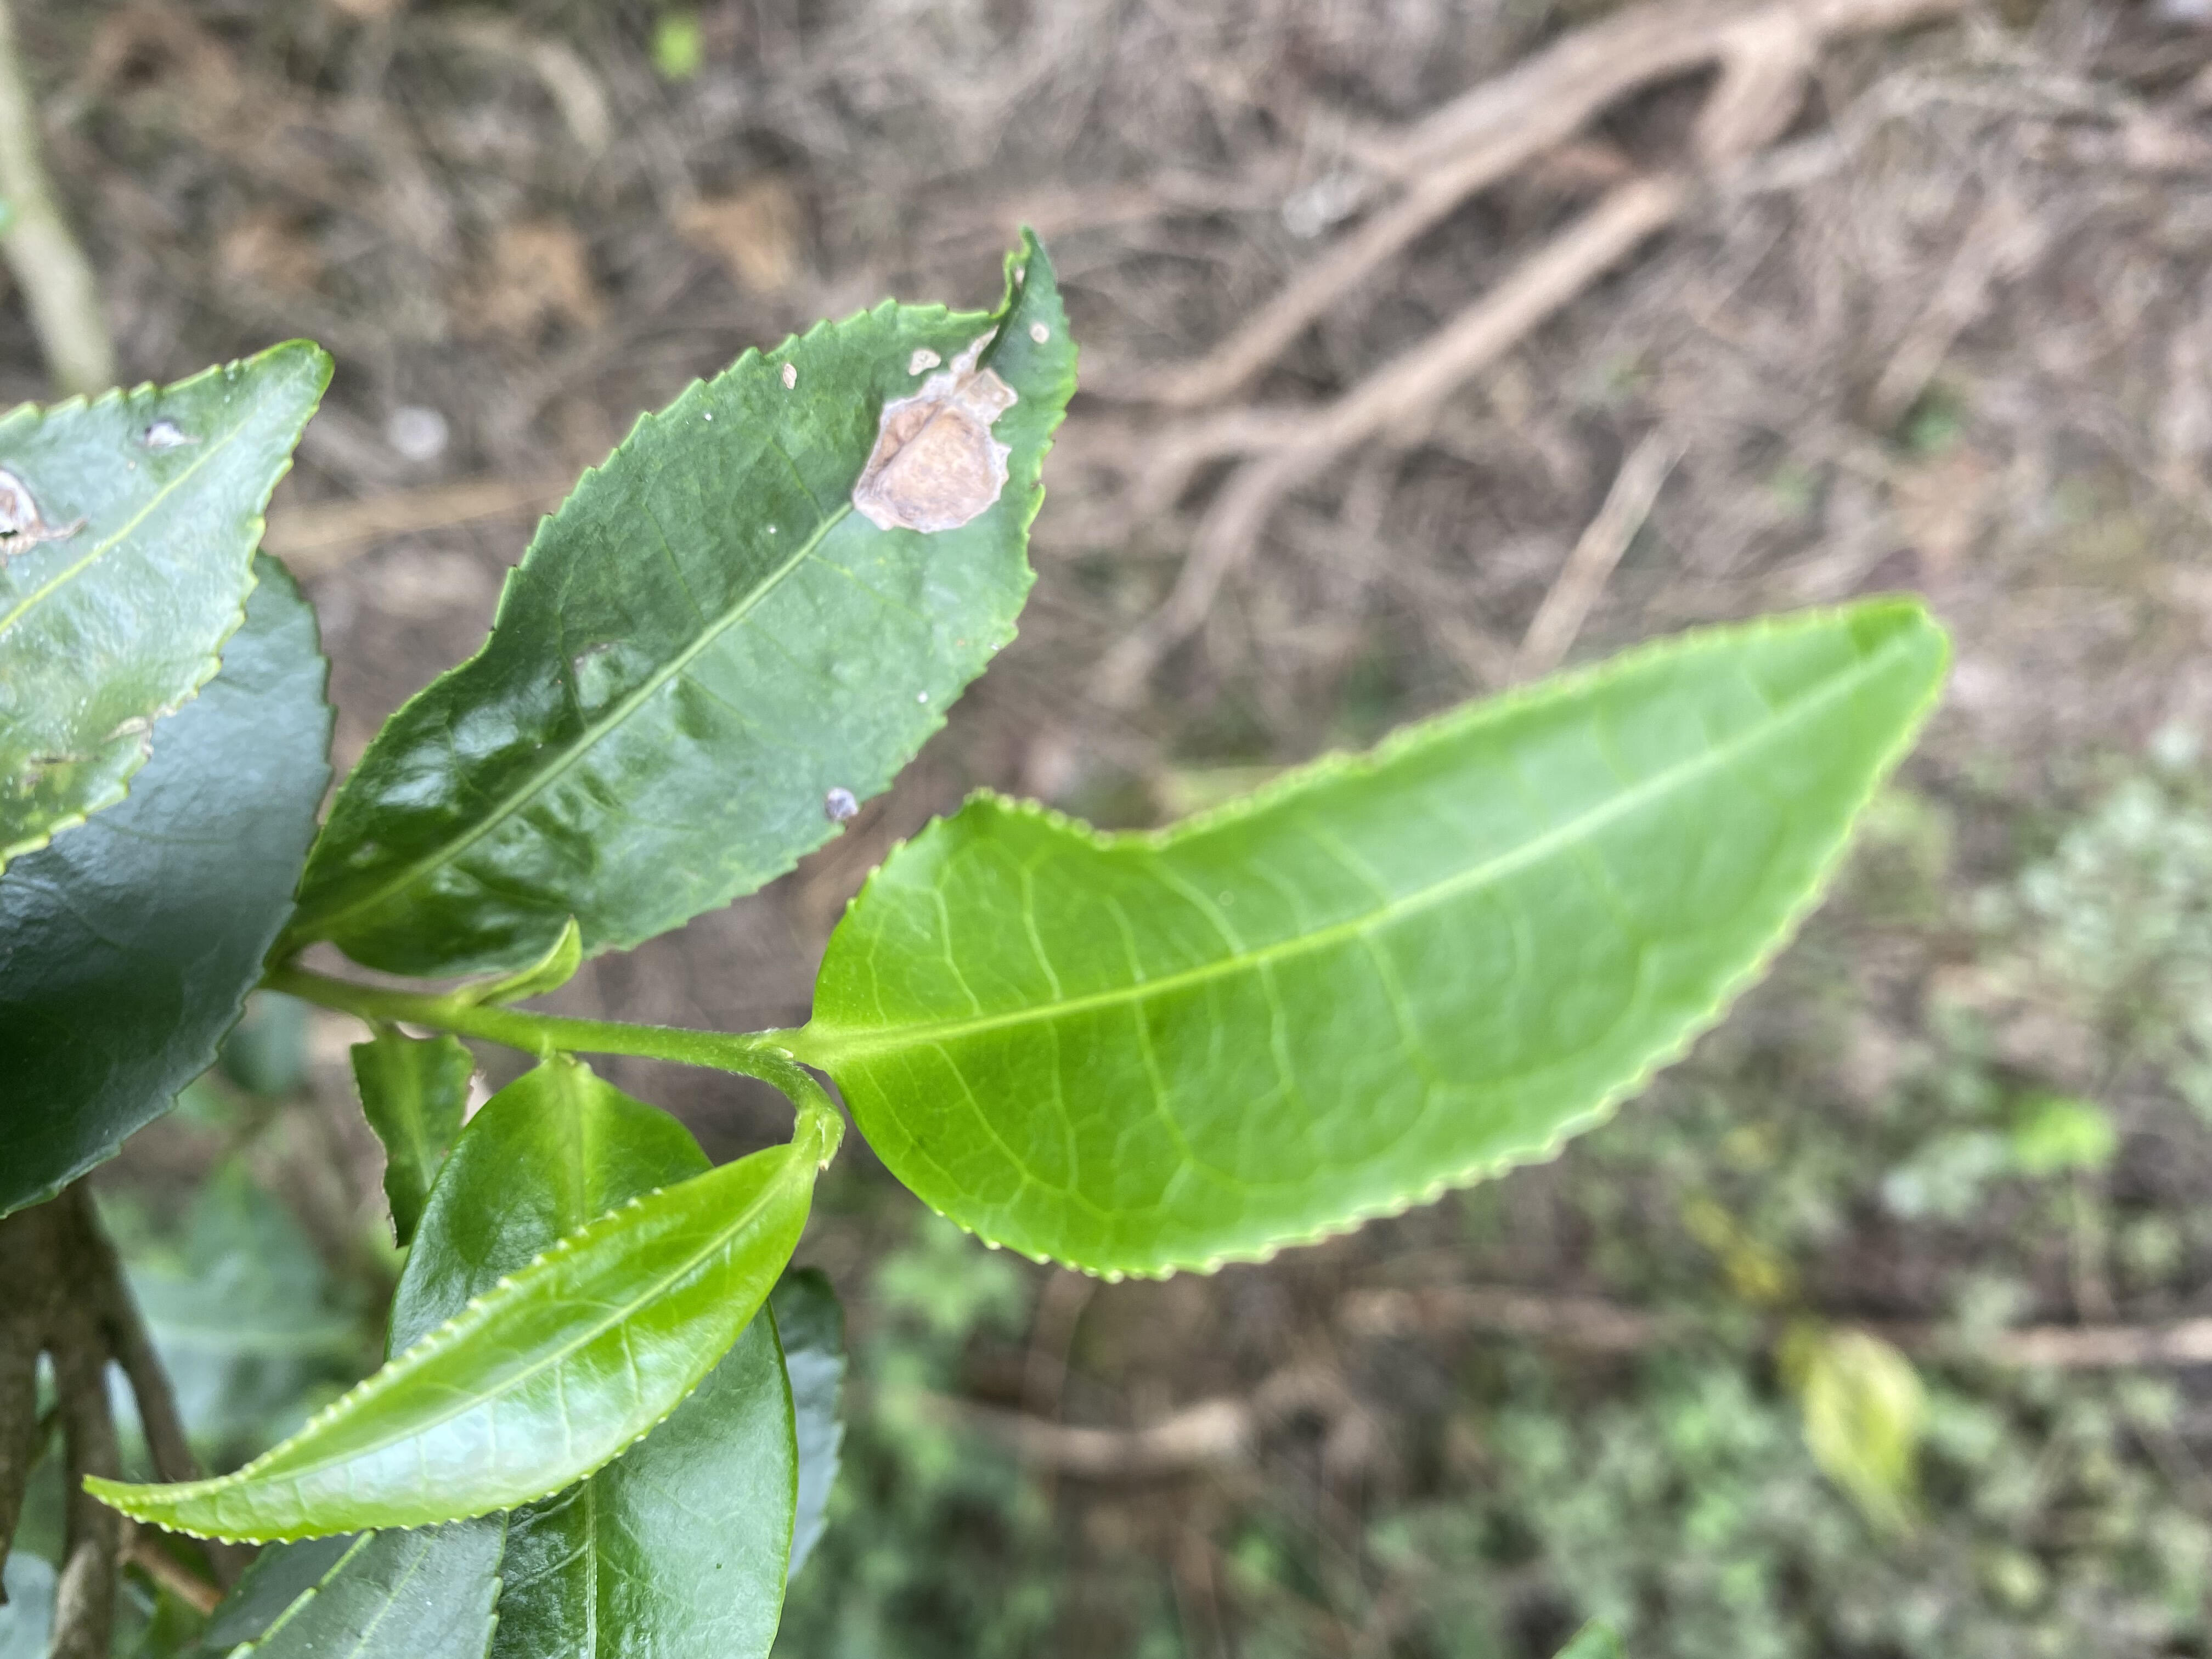healthy: (812, 596, 1951, 1284), (82, 1145, 813, 1549)
tanju_high: (314, 221, 1078, 983), (2, 338, 333, 877)
